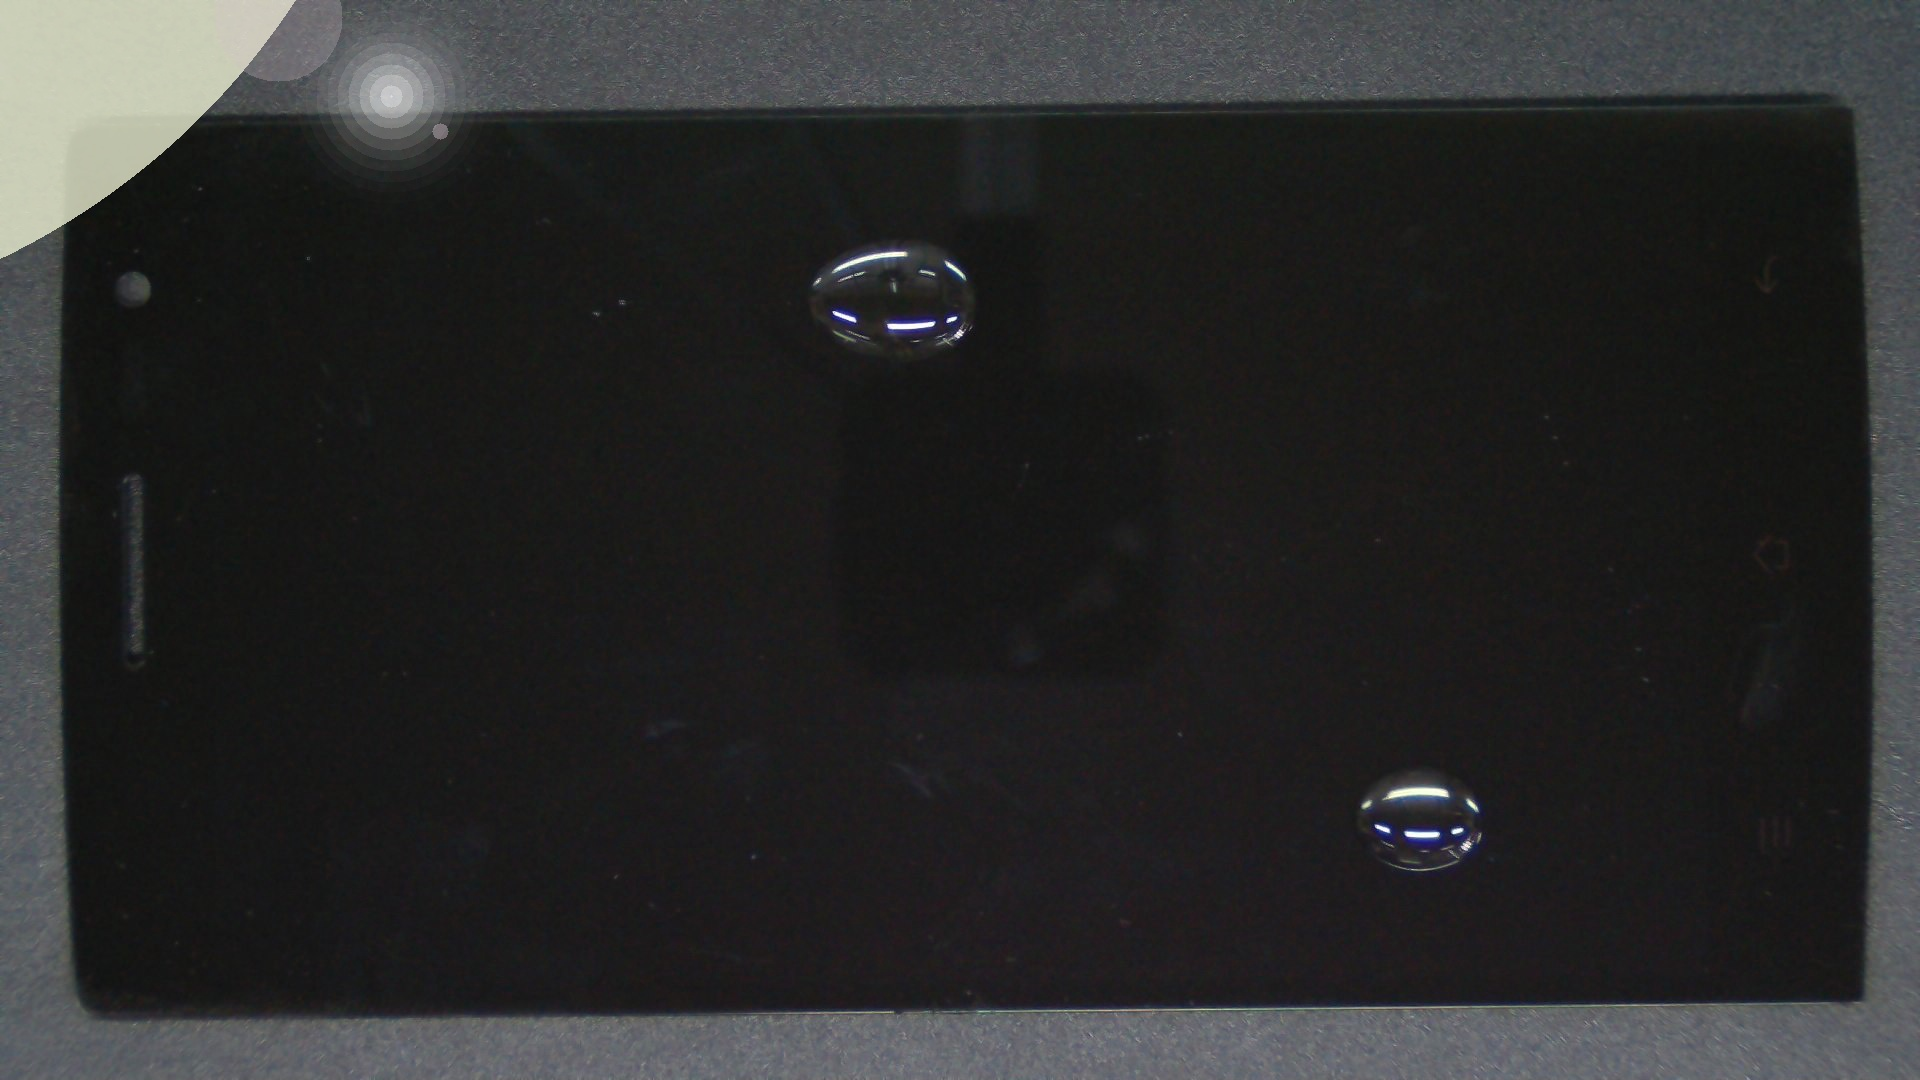oil: (709, 382, 1920, 1080), (446, 120, 1336, 360)
